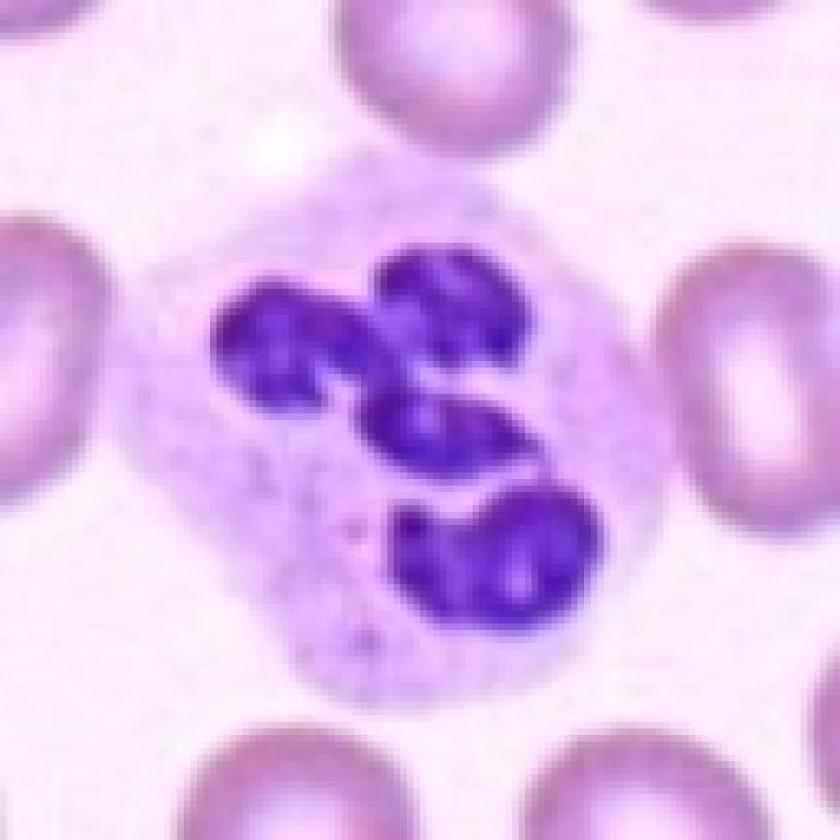neutrophil: (98, 143, 674, 711)
